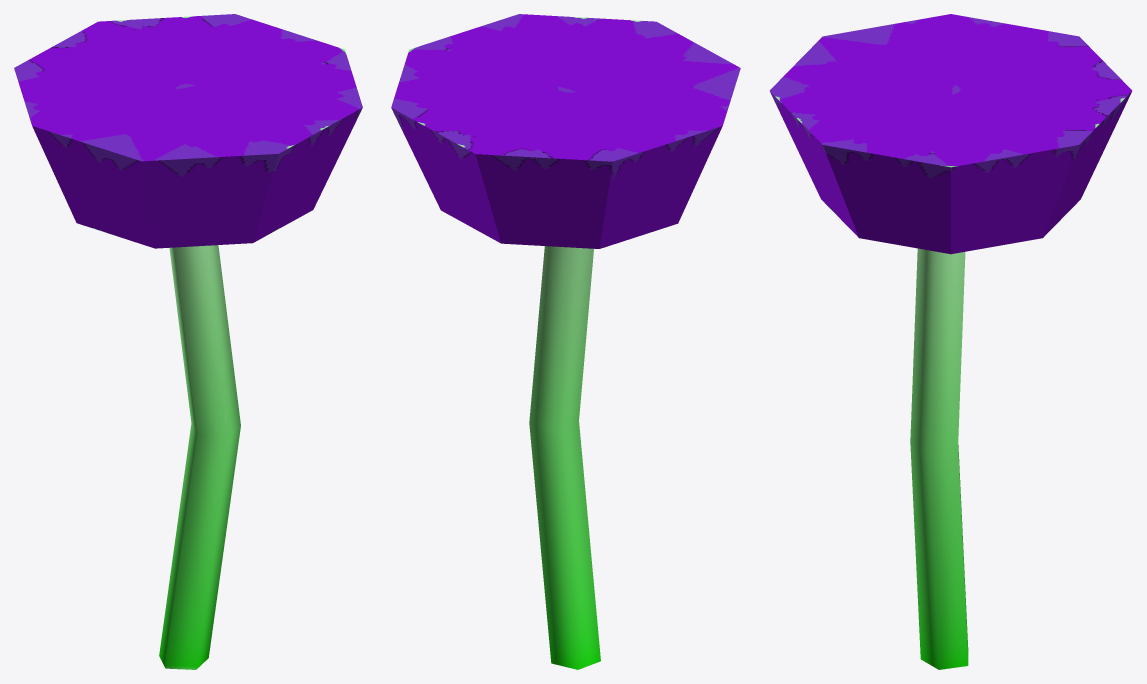
File: flower3.glb
3 renders of one model, left to right at view 1: azimuth 30°, elevation 25°; view 2: azimuth 150°, elevation 25°; view 3: azimuth 270°, elevation 25°, orthographic.
Parts seen in each view (by area): view 1: flower3; view 2: flower3; view 3: flower3.
Boxes of the visible parts, x1,y1,x2,y2 form: flower3: [14, 14, 362, 669]; flower3: [391, 14, 740, 669]; flower3: [769, 14, 1132, 669].
Bounding box in the file's own units: 0.1375 × 0.2391 × 0.1375.
Materials: 1 (1 with a texture image).
